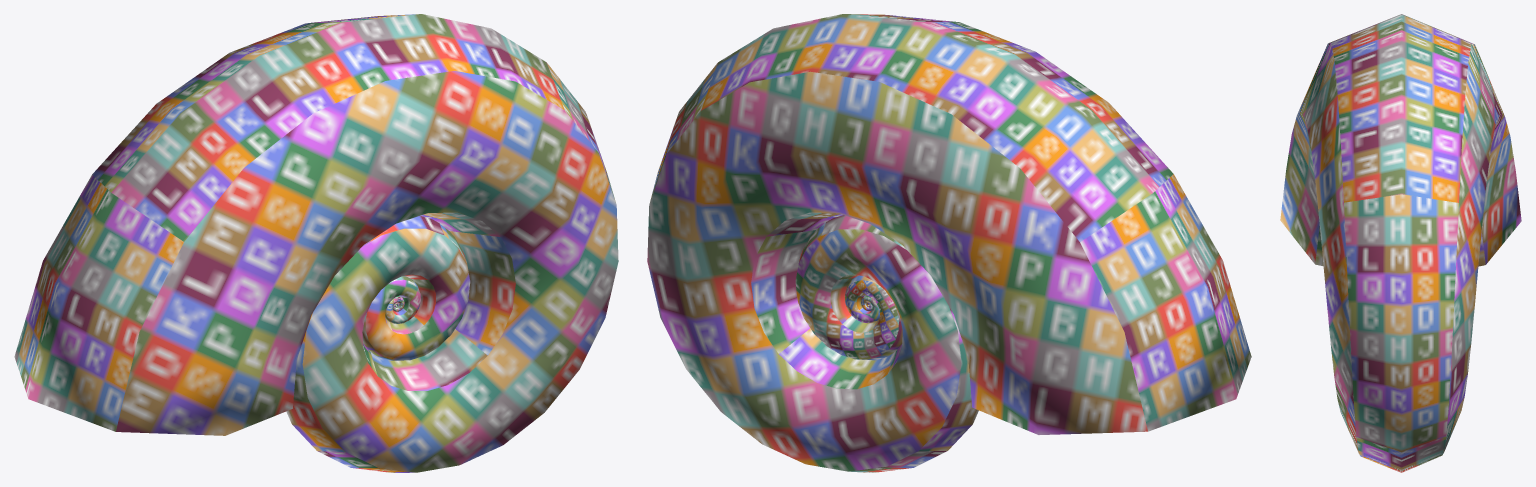
The model's file is Ammonite.obj.
3 views of the same model, side by side, from view 1: azimuth 30°, elevation 25°; view 2: azimuth 150°, elevation 25°; view 3: azimuth 270°, elevation 25° (orthographic). The views are drawn at different scales.
Parts seen in each view (by area): view 1: Knot1; view 2: Knot1; view 3: Knot1.
Part boxes in pixels (left/top/right/bottom): Knot1: left=14, top=14, right=618, bottom=472; Knot1: left=647, top=14, right=1251, bottom=472; Knot1: left=1280, top=14, right=1521, bottom=472.
Bounding box in the file's own units: 4.83 × 3.7 × 2.09.
1 material, 1 textured.
